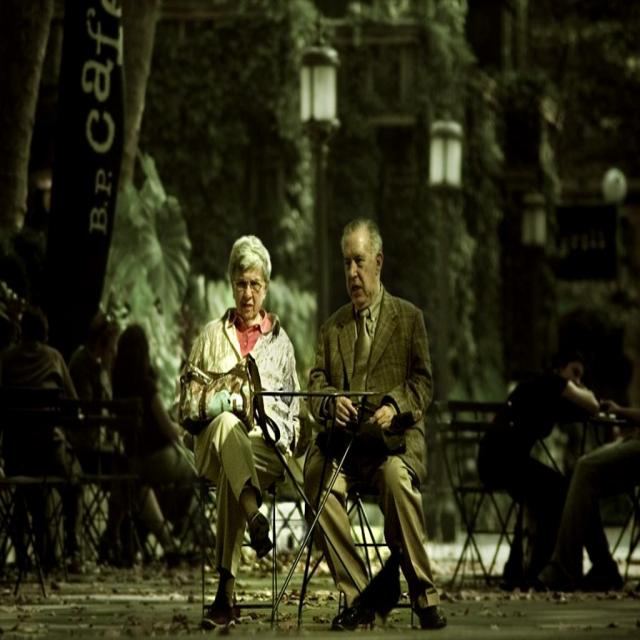nomask: (343, 235, 375, 303), (234, 258, 268, 320)
